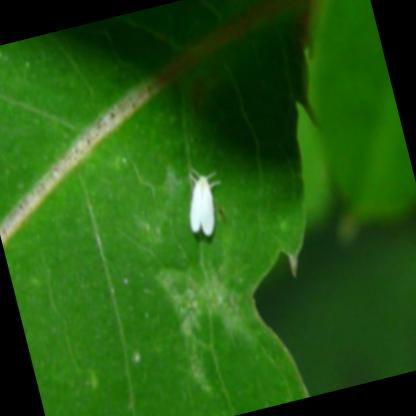whitefly: (189, 178, 214, 238)
